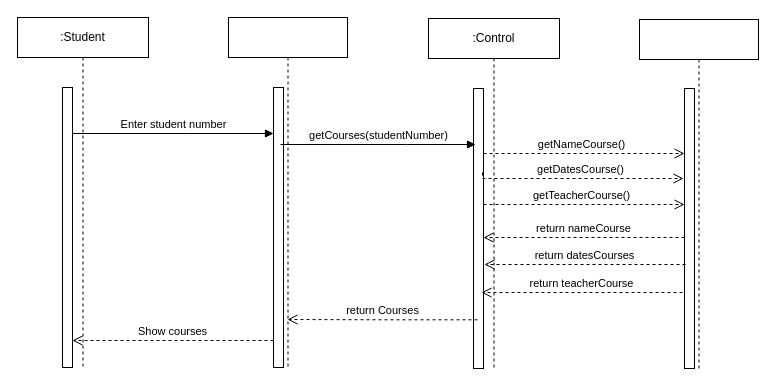
Image size: 776x386. Some labels were removed from this diagram. Here are the shapes that lost their labels. From the top down, the centre of each, then its label:
At pixel 288 192: ":ApplicationIHM".
At pixel 698 193: ":Database".
